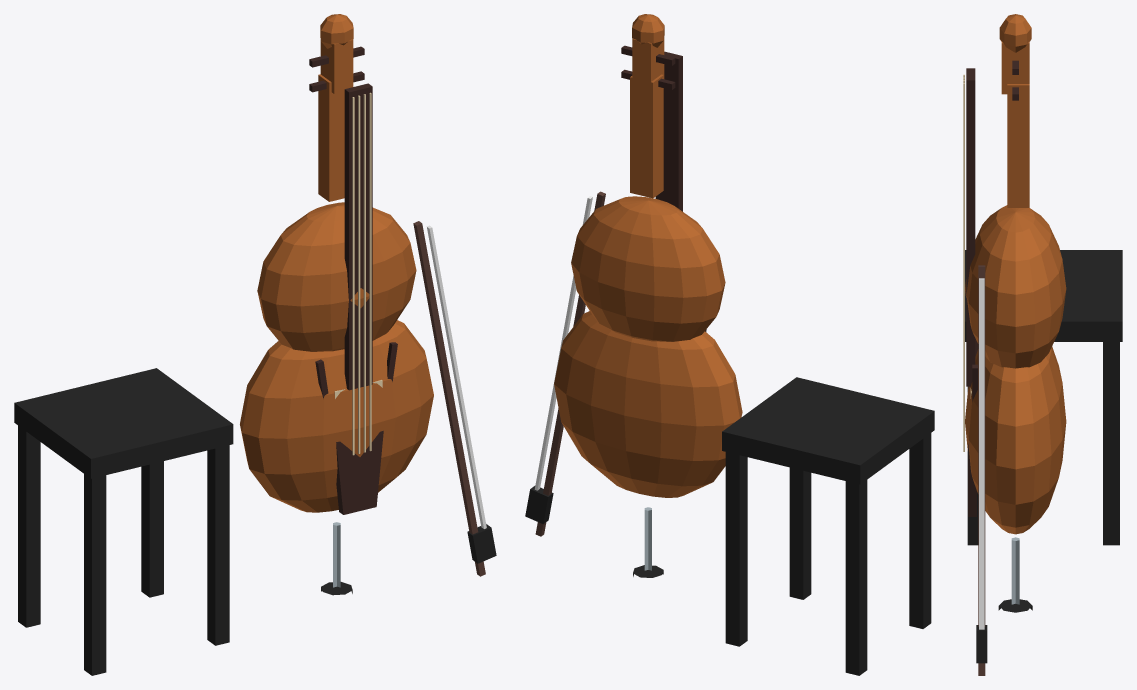
Rendered from cello.glb.
The picture shows the model from 3 angles, left to right: view 1: azimuth 30°, elevation 25°; view 2: azimuth 150°, elevation 25°; view 3: azimuth 270°, elevation 25°; orthographic projection. The views are drawn at different scales.
Parts seen in each view (by area): view 1: cello; view 2: cello; view 3: cello.
Boxes of the visible parts, box(x1,y1,x2,y2) form: cello: box(14, 14, 496, 675); cello: box(525, 14, 934, 675); cello: box(963, 14, 1122, 675).
Bounding box in the file's own units: 0.8661 × 1.17 × 0.283.
